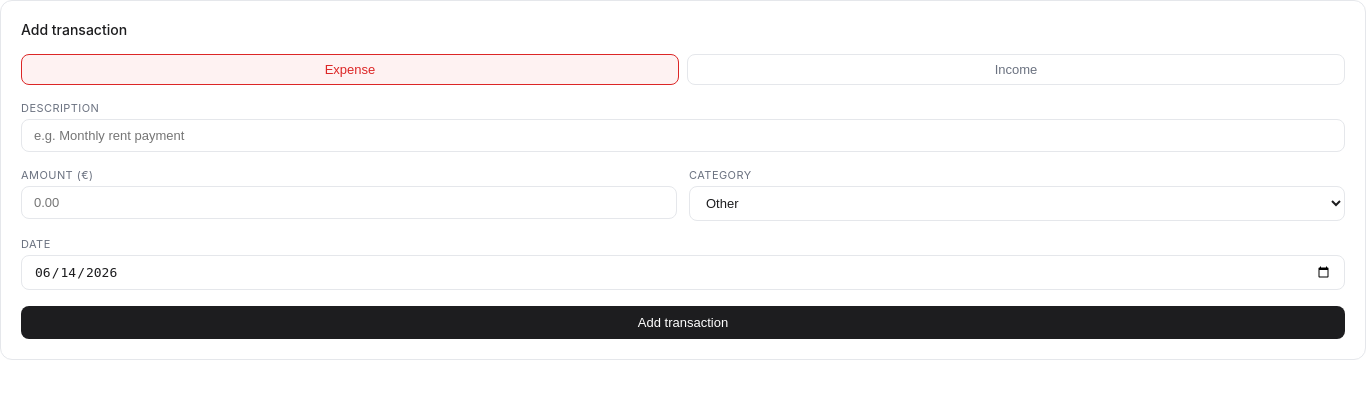
Test: AddTransactionForm › shows error when description is empty
Click the button "Add transaction": (683, 322) [21,306,1345,339]
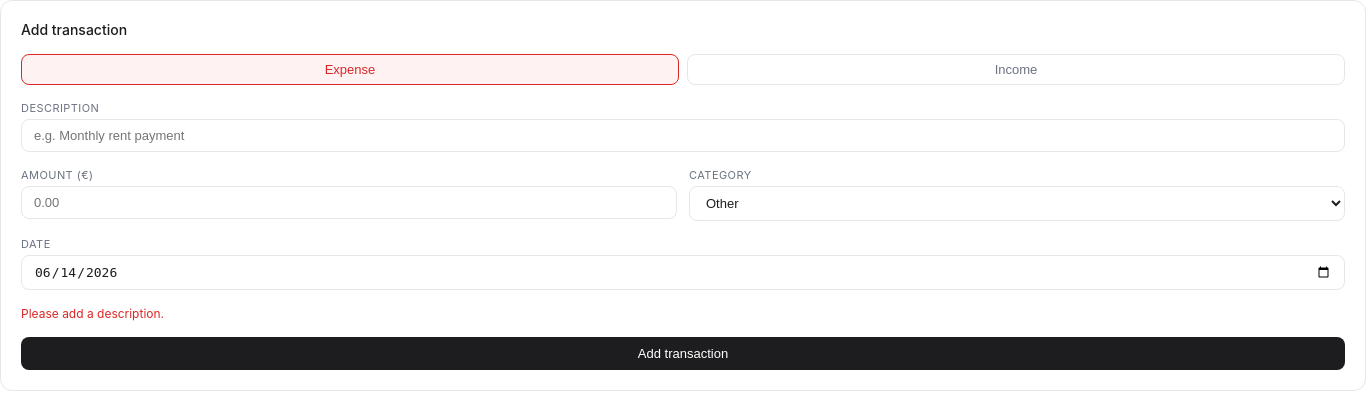
expect the text "Please add a description." is shown: met, box [21,306,164,321]
